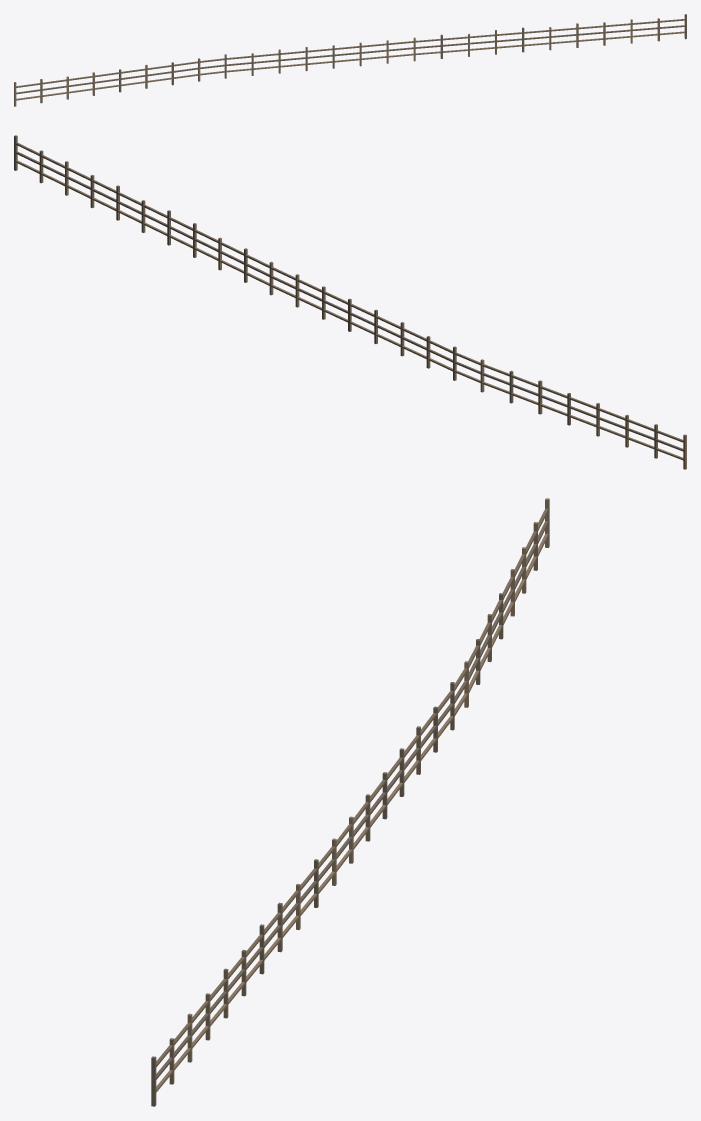
File: border_00031.glb
3 views of the same model, one above another, from view 1: azimuth 30°, elevation 25°; view 2: azimuth 150°, elevation 25°; view 3: azimuth 270°, elevation 25° (orthographic). The views are drawn at different scales.
Parts seen in each view (by area): view 1: Fence rails, Fence posts; view 2: Fence rails, Fence posts; view 3: Fence rails, Fence posts.
Boxes of the visible parts, x1,y1,x2,y2 form: Fence rails: [16, 19, 684, 100]; Fence posts: [14, 14, 686, 106]; Fence rails: [16, 142, 683, 460]; Fence posts: [14, 135, 686, 469]; Fence rails: [156, 508, 548, 1092]; Fence posts: [151, 498, 549, 1106].
Size of the model in its own units: 51.62 by 2.08 by 15.49.
